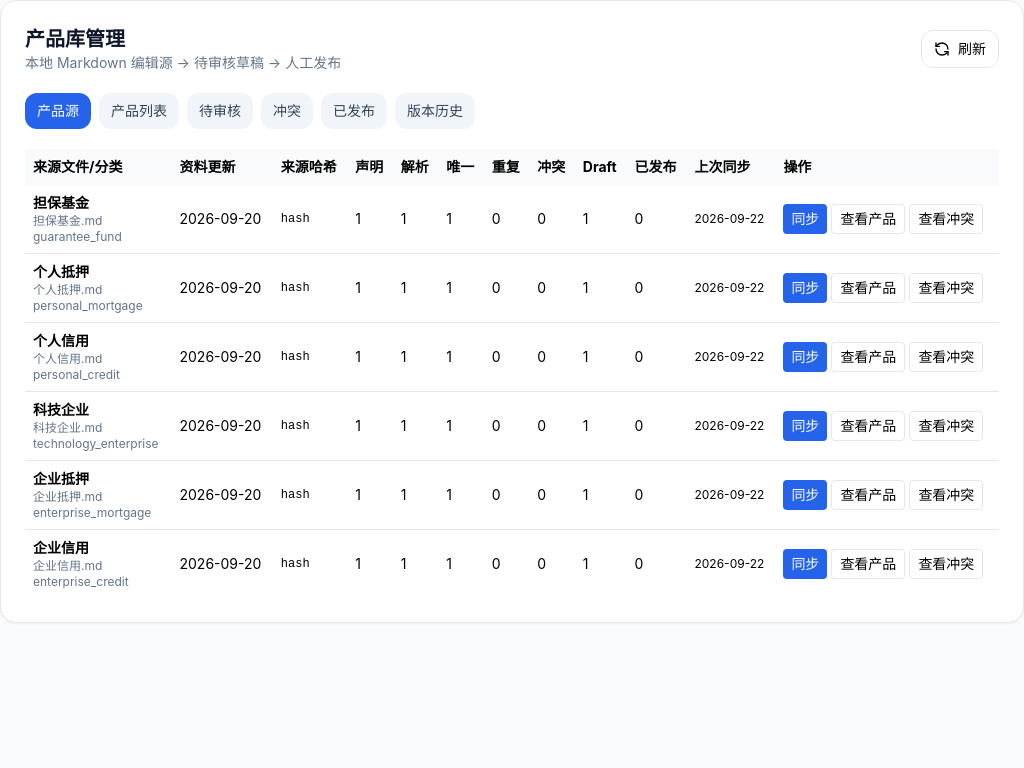
LocalProductCatalogSection › shows conflict sides and field summary
Expected: the text "担保基金" is shown, [33,194,89,211]
Click the button "冲突" at (287, 111), box [261,93,313,129]
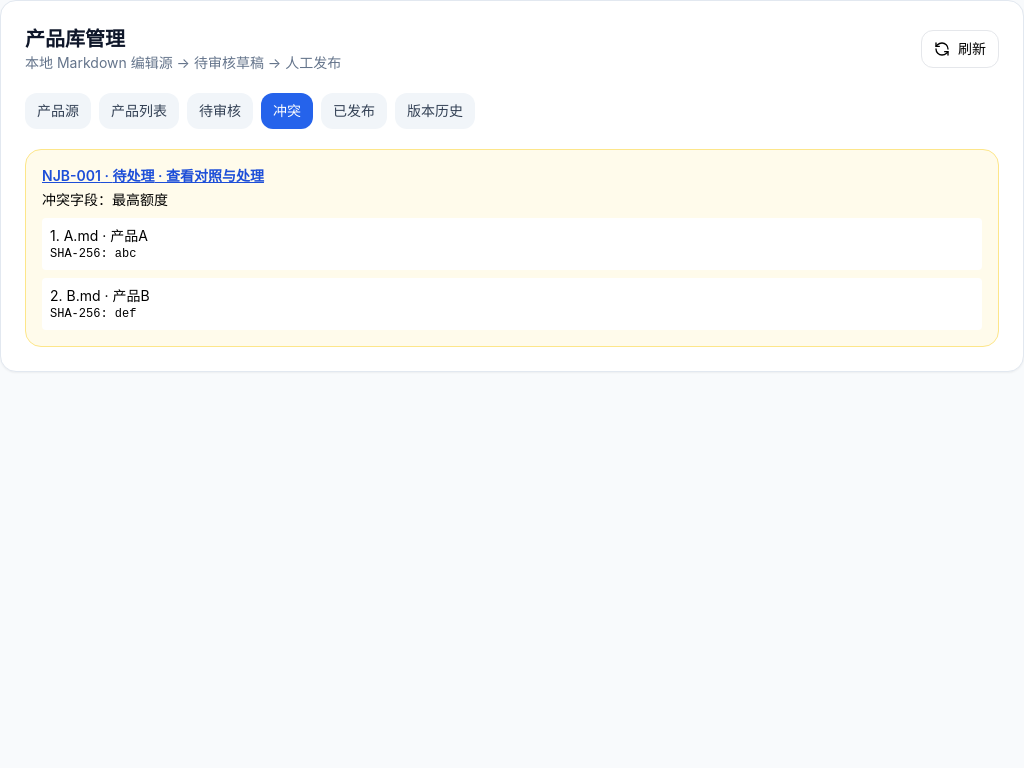
Expected: the button "NJB-001 · 待处理 · 查看对照与处理" is shown, [42,166,264,186]
Expected: the text "冲突字段：最高额度" is shown, [42,191,168,208]
Expected: the text "SHA-256: abc" is shown, [50,247,136,261]
